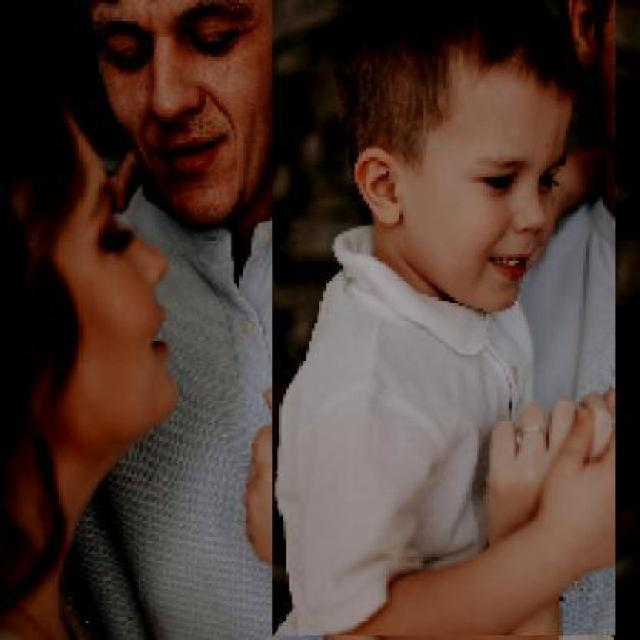child: (271, 0, 615, 637)
